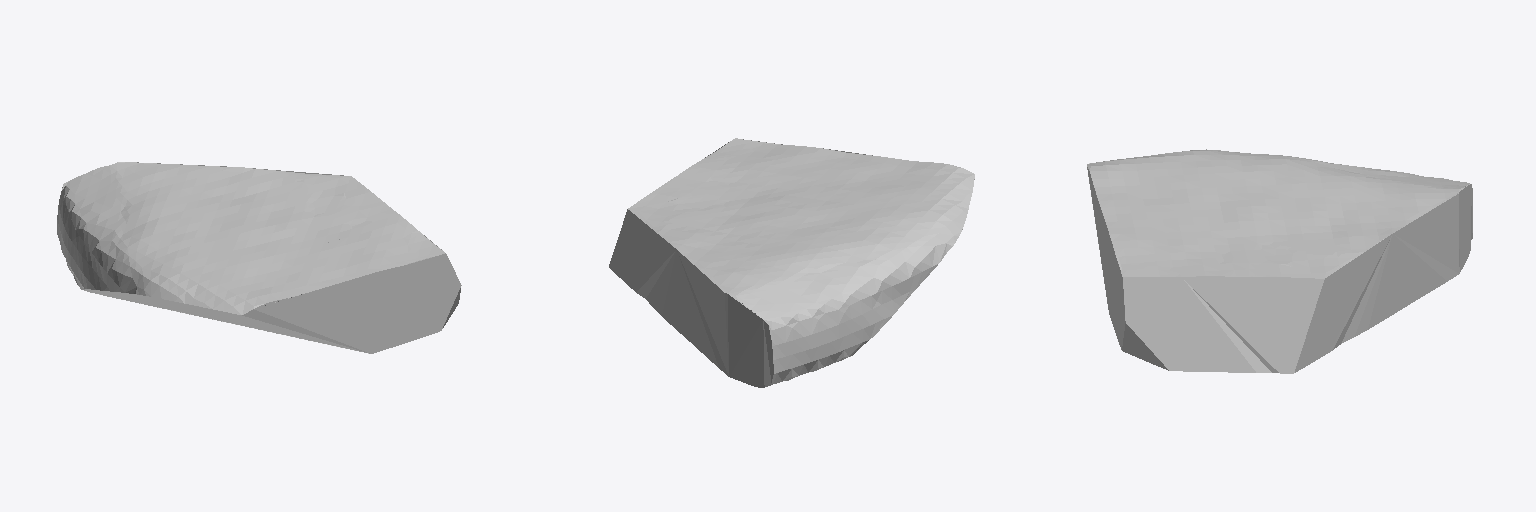
The model's file is low_cell_039.obj.
3 views of the same model, side by side, from view 1: azimuth 30°, elevation 25°; view 2: azimuth 150°, elevation 25°; view 3: azimuth 270°, elevation 25° (orthographic).
Visible parts, largest first — view 1: low_cell.039_low_cell.038; view 2: low_cell.039_low_cell.038; view 3: low_cell.039_low_cell.038.
Part boxes in pixels (x1,y1,x2,y2): low_cell.039_low_cell.038: (57,162,461,353); low_cell.039_low_cell.038: (609,138,974,387); low_cell.039_low_cell.038: (1087,149,1472,373).
Size of the model in its own units: 0.4679 by 0.128 by 0.5141.